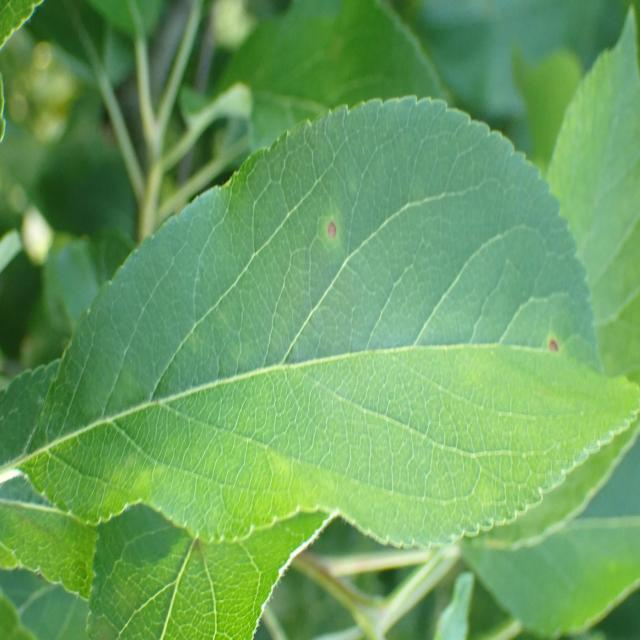Black Rot: (308, 204, 356, 255), (536, 329, 572, 368)
